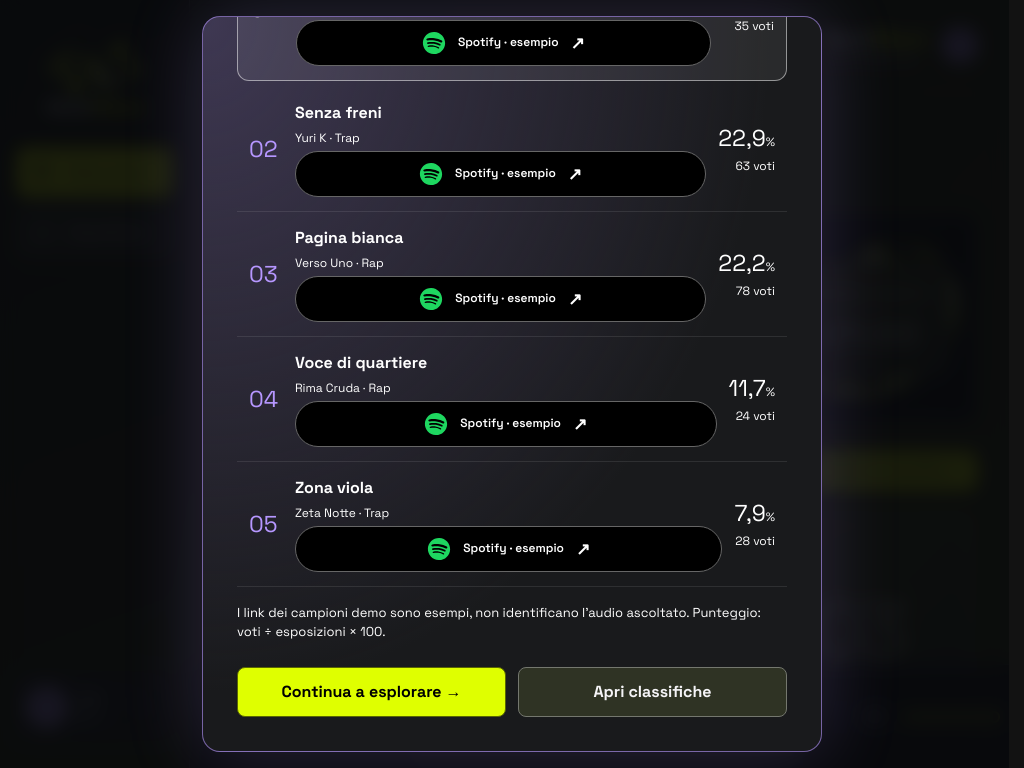
Test: flussi React › reveal mostra cinque risultati una sola volta, e si può riaprire
The image size is (1024, 768).
(page scrolled)
Click the button "Continua a esplorare →". click: (372, 692)
box: x1=237 y1=667 x2=506 y2=717
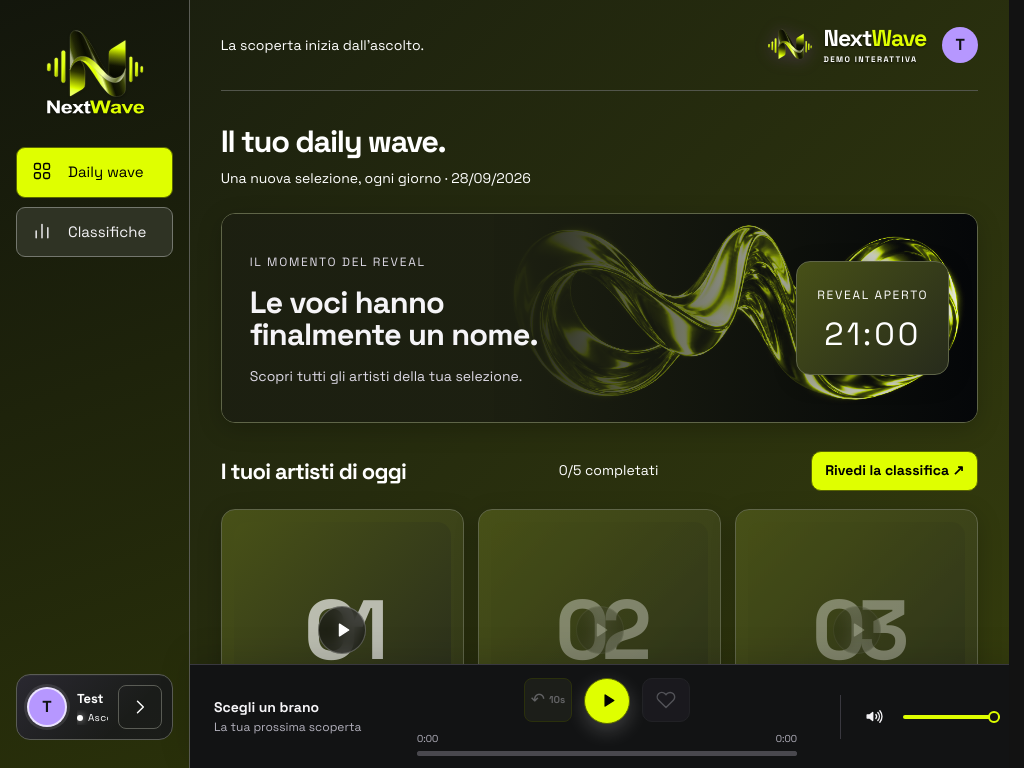
Expected: the dialog is gone
Click the button "Rivedi la classifica ↗". click: (895, 471)
box: x1=811 y1=451 x2=978 y2=491
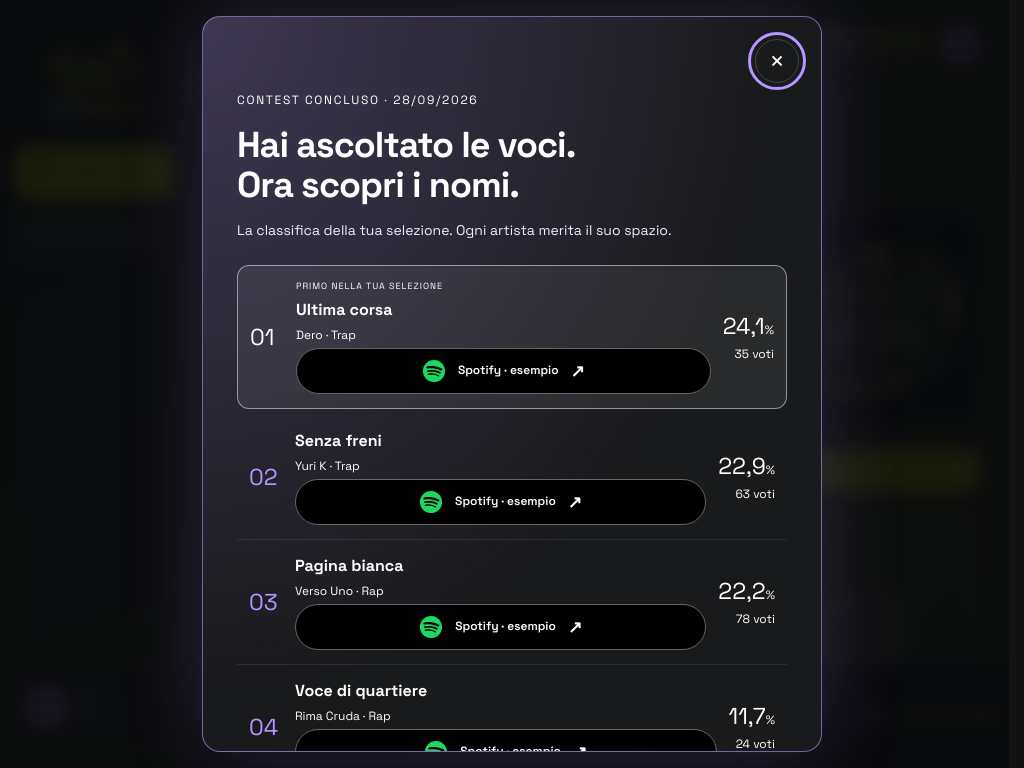
Expected: the dialog is shown, x1=202 y1=16 x2=822 y2=752
